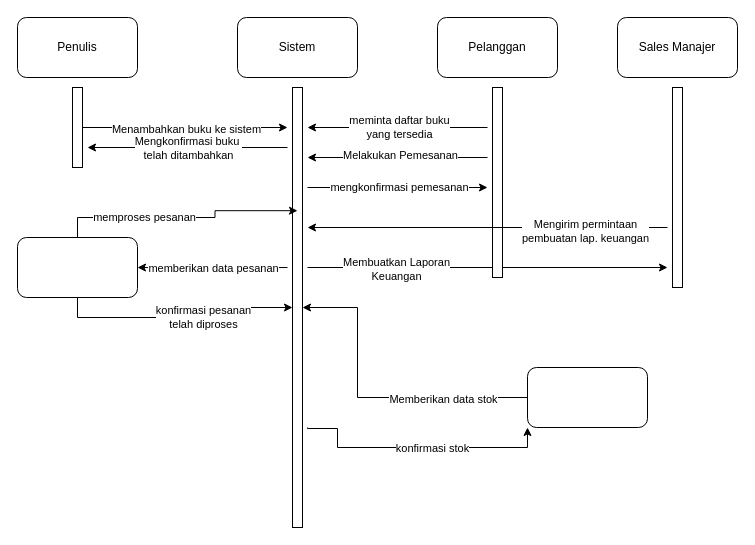
This 755x545 diagram has some shape labels left out. The shapes that lost their labels are listed below. From the top down, each one's centre as x and y in pixels, then its label:
the point at 77,267: Tim Seller
the point at 587,397: Gudang
